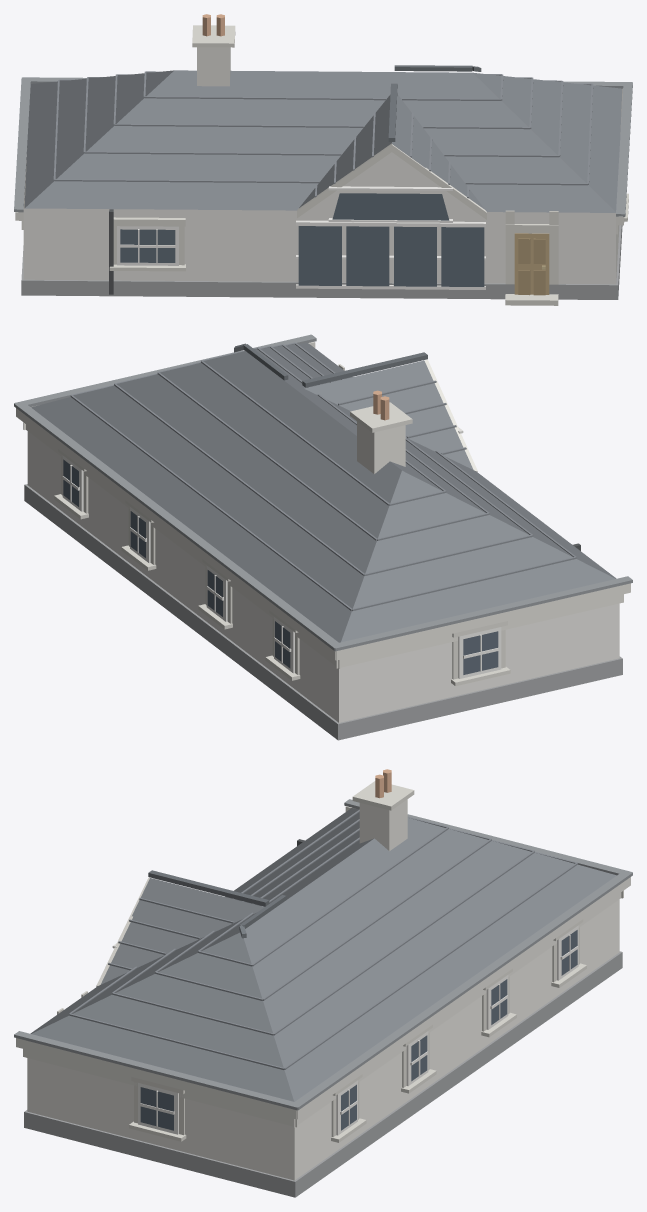
3 views of the same model, one above another, from view 1: azimuth 30°, elevation 25°; view 2: azimuth 150°, elevation 25°; view 3: azimuth 270°, elevation 25° (orthographic). The views are drawn at different scales.
Parts seen in each view (by area): view 1: slate, harl, plinth, dress_cream, slate_lt, frame, lead, window_glass_006, window_glass_003, window_glass_002, window_glass_005, window_glass_004 (+5 smaller); view 2: slate, harl, plinth, string, slate_lt, lead, dress_cream, frame, chim_render, slate_dk, window_glass_011; view 3: slate, harl, plinth, string, slate_lt, lead, dress_cream, frame, chim_render, slate_dk, window_glass_012.
Boxes of the visible parts, x1,y1,x2,y2 form: slate: [24, 70, 622, 212]; harl: [23, 88, 622, 284]; plinth: [21, 225, 622, 299]; dress_cream: [109, 25, 628, 305]; slate_lt: [53, 71, 593, 198]; frame: [117, 186, 485, 289]; lead: [14, 77, 632, 216]; window_glass_006: [332, 193, 449, 220]; window_glass_003: [346, 226, 389, 286]; window_glass_002: [298, 226, 341, 285]; window_glass_005: [441, 227, 484, 286]; window_glass_004: [394, 226, 436, 286]; slate: [31, 343, 616, 642]; harl: [27, 405, 619, 722]; plinth: [24, 484, 622, 740]; string: [16, 341, 630, 668]; slate_lt: [70, 342, 576, 611]; lead: [14, 334, 632, 651]; dress_cream: [54, 359, 510, 686]; frame: [62, 427, 501, 678]; chim_render: [357, 421, 405, 474]; slate_dk: [234, 343, 427, 387]; window_glass_011: [463, 631, 498, 674]; slate: [30, 808, 616, 1101]; harl: [27, 807, 619, 1180]; plinth: [24, 951, 622, 1197]; string: [16, 806, 630, 1127]; slate_lt: [69, 809, 577, 1069]; lead: [14, 799, 632, 1110]; dress_cream: [57, 781, 586, 1142]; frame: [112, 925, 578, 1135]; chim_render: [359, 799, 407, 850]; slate_dk: [148, 870, 286, 938]; window_glass_012: [140, 1087, 173, 1130].
Size of the model in its own units: 18.78 by 6.57 by 15.92.
